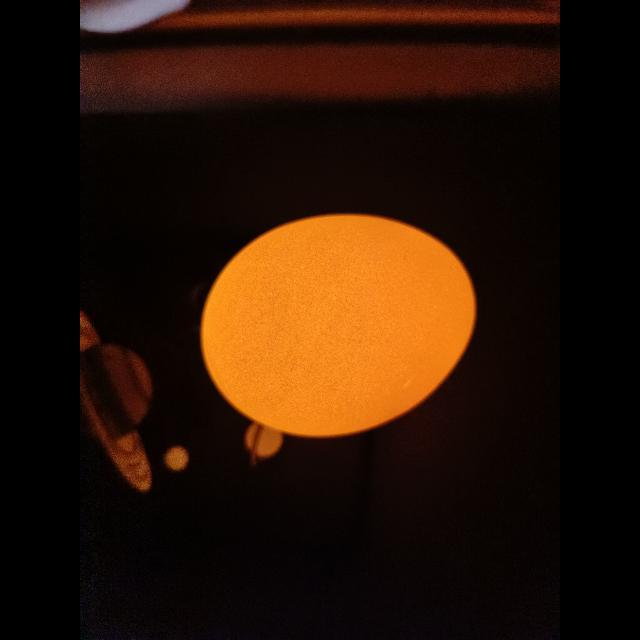AA - Premium: (201, 215, 476, 438)
